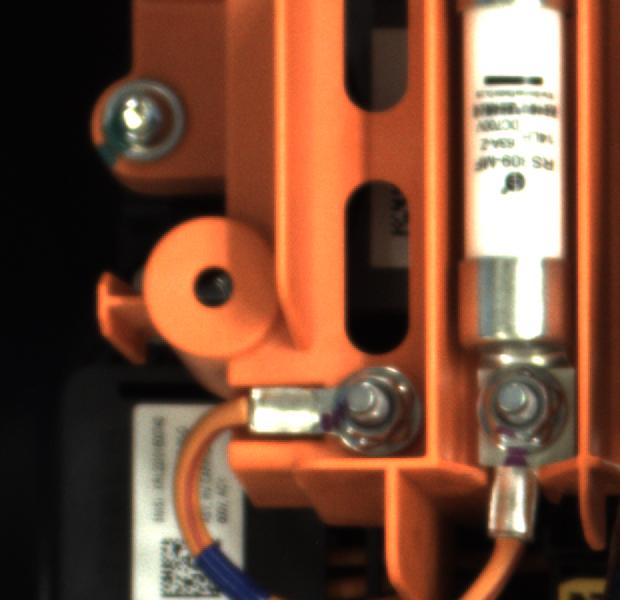screw_m: (91, 70, 202, 175)
screw_s: (319, 357, 418, 459), (475, 359, 579, 456)
